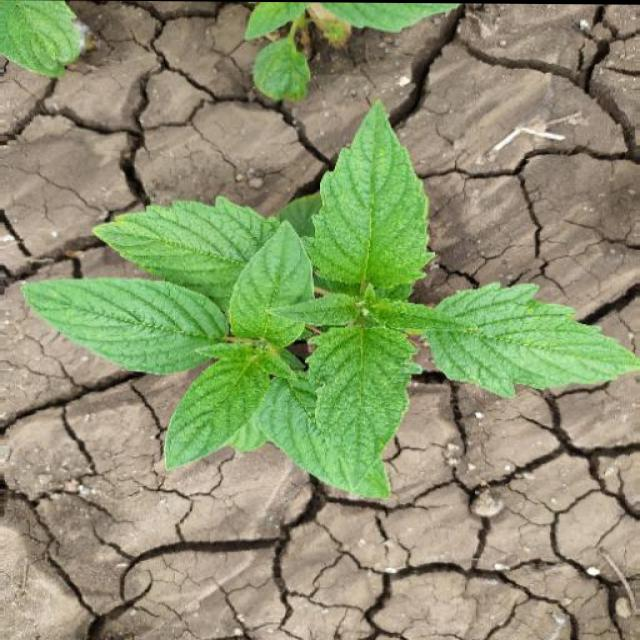crop: (19, 139, 639, 485)
